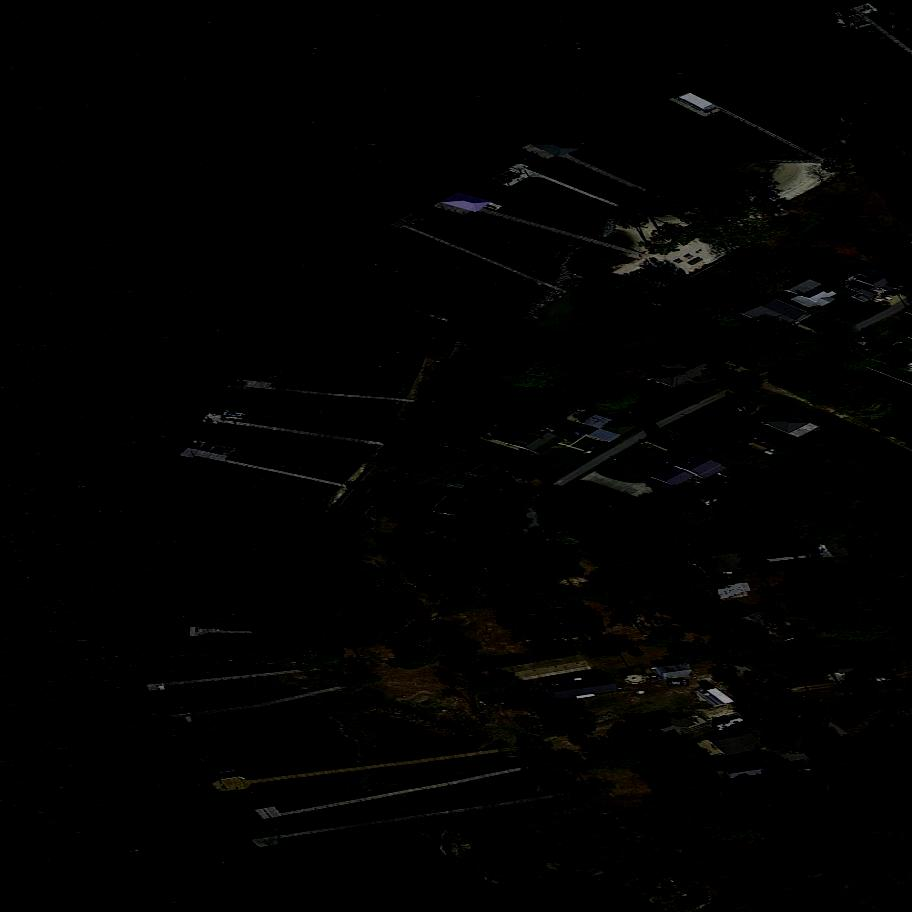ship: (713, 716, 748, 733), (829, 12, 850, 34), (199, 619, 220, 630), (222, 411, 248, 417)
small-vehicle: (733, 401, 757, 415), (712, 574, 735, 586), (667, 680, 689, 687)
